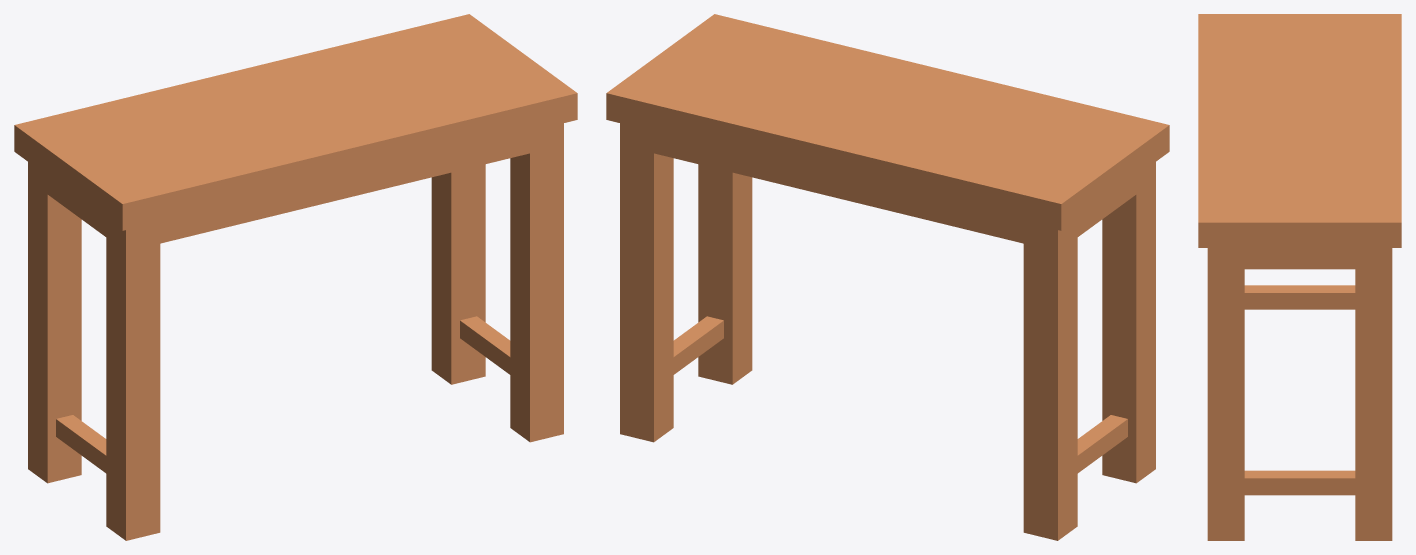
The model's file is Side Table.glb.
3 renders of one model, left to right at view 1: azimuth 30°, elevation 25°; view 2: azimuth 150°, elevation 25°; view 3: azimuth 270°, elevation 25°, orthographic. The views are drawn at different scales.
Parts seen in each view (by area): view 1: sideTable(Clone); view 2: sideTable(Clone); view 3: sideTable(Clone).
Boxes of the visible parts, bbox=[...] form: sideTable(Clone): bbox=[14, 14, 577, 540]; sideTable(Clone): bbox=[606, 14, 1169, 540]; sideTable(Clone): bbox=[1198, 14, 1401, 540].
Size of the model in its own units: 0.5345 by 0.3844 by 0.22.
